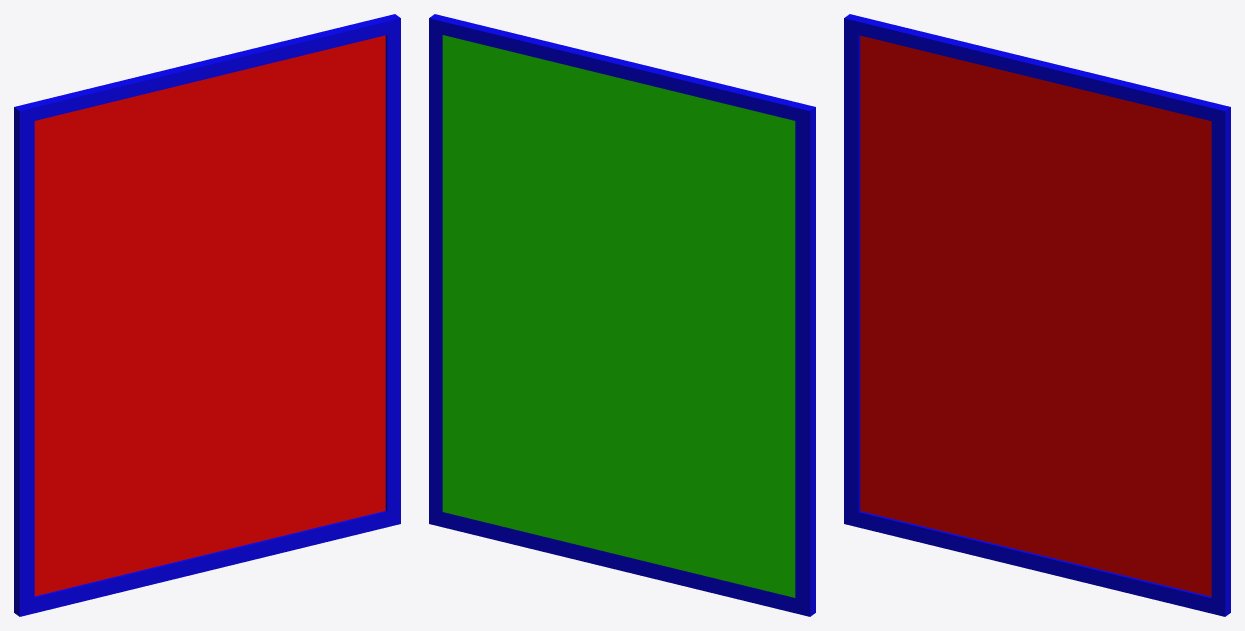
3 renders of one model, left to right at view 1: azimuth 30°, elevation 25°; view 2: azimuth 150°, elevation 25°; view 3: azimuth 330°, elevation 25°, orthographic.
Visible parts, largest first — view 1: polySurface2, frame; view 2: back, frame; view 3: polySurface2, frame.
Boxes of the visible parts, box(x1,y1,x2,y2) form: polySurface2: box(34, 35, 385, 596); frame: box(14, 14, 400, 616); back: box(442, 35, 795, 597); frame: box(429, 14, 815, 616); polySurface2: box(860, 35, 1211, 596); frame: box(844, 14, 1230, 616).
Bounding box in the file's own units: 17.55 × 22.25 × 0.4621.
